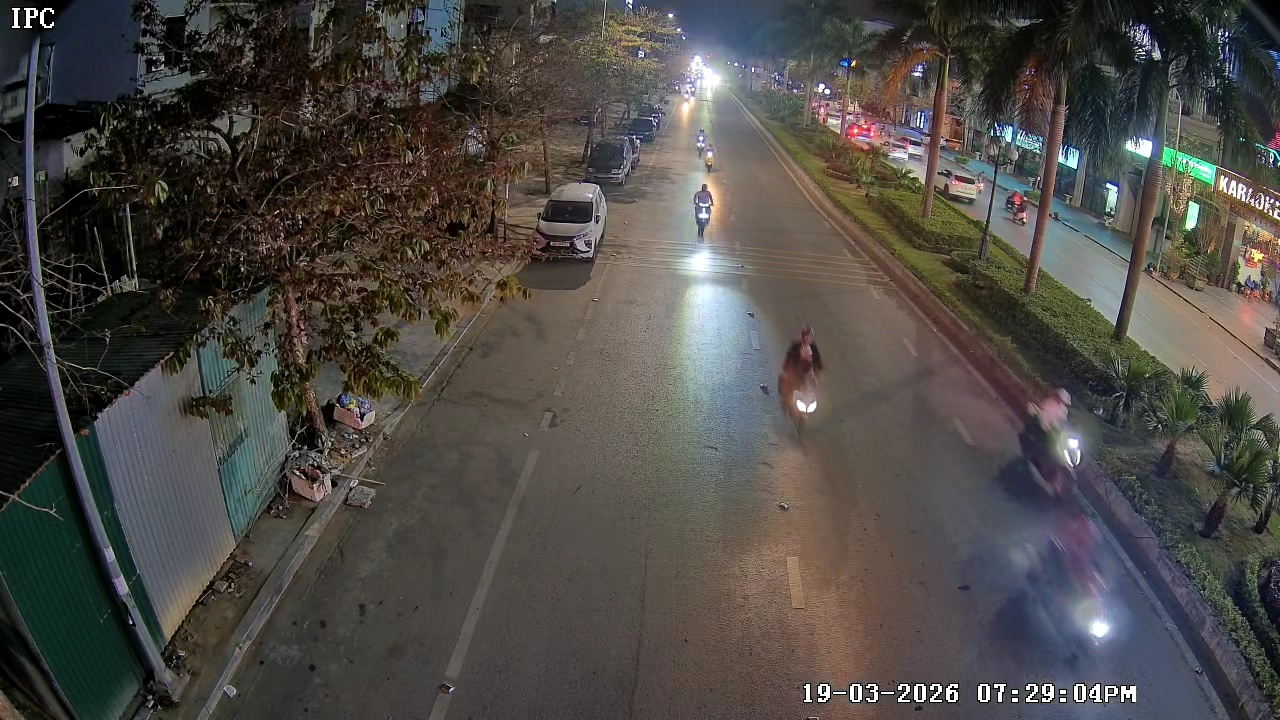car: (531, 180, 609, 264), (583, 132, 641, 187)
motorbike: (776, 323, 826, 437), (691, 181, 716, 240), (694, 130, 716, 171)
